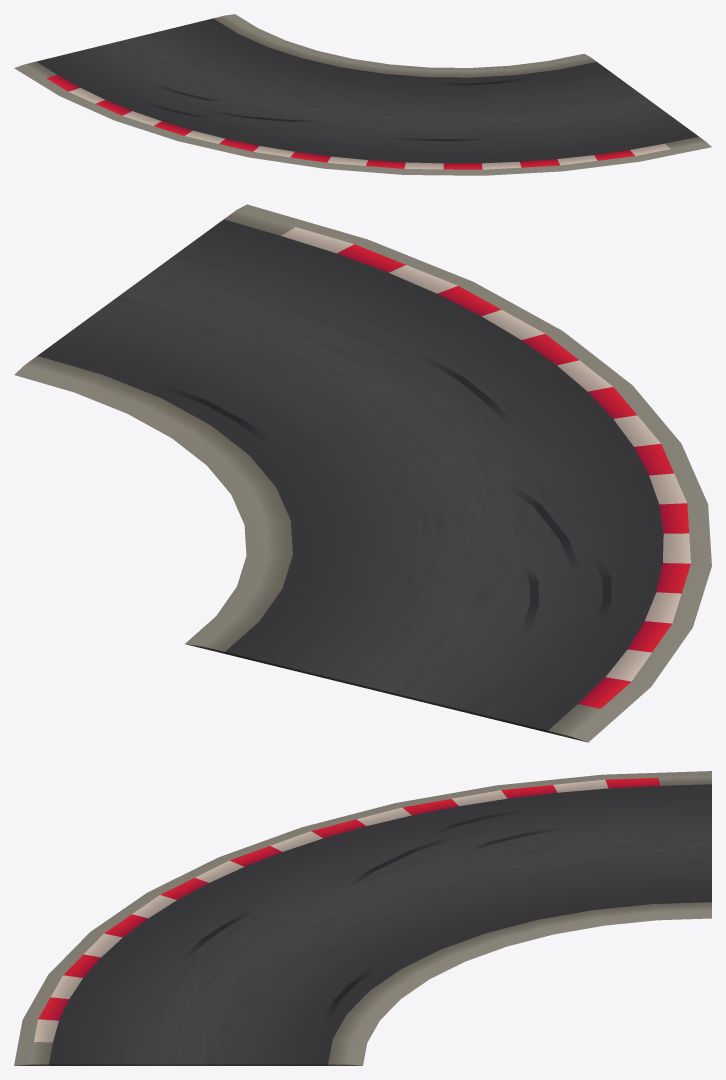
3 views of the same model, one above another, from view 1: azimuth 30°, elevation 25°; view 2: azimuth 150°, elevation 25°; view 3: azimuth 270°, elevation 25° (orthographic). The views are drawn at different scales.
Parts seen in each view (by area): view 1: Curve_1B, Curve_1B_Skidmarks; view 2: Curve_1B, Curve_1B_Skidmarks; view 3: Curve_1B, Curve_1B_Skidmarks.
Part boxes in pixels (x1,y1,x2,y2): Curve_1B: [14, 14, 711, 175]; Curve_1B_Skidmarks: [141, 77, 533, 141]; Curve_1B: [14, 204, 711, 742]; Curve_1B_Skidmarks: [153, 352, 611, 635]; Curve_1B: [14, 771, 711, 1065]; Curve_1B_Skidmarks: [179, 809, 575, 1021].
Bounding box in the file's own units: 4000 × 10.4 × 4000.
